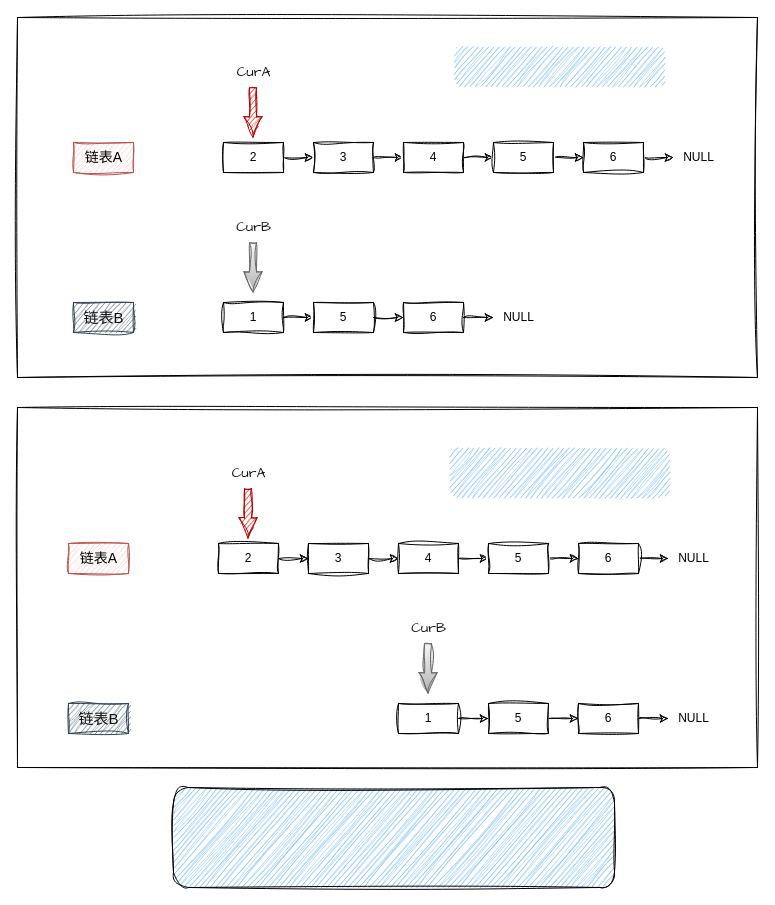
This 775x905 diagram has some shape labels left out. The shapes that lost their labels are listed below. From the top down, each one's box as (x1, y1, x2, y2) in pixels, then its label:
(454, 46, 664, 86): curA指向链表A的头结点 curB指向链表B的头结点
(449, 447, 669, 497): 求出A,B链表的差值 让B的末尾对齐A的末尾
(172, 786, 614, 888): 比较curA和curB是否相同，如果不相同， 同时向后移动，如果遇到curA == curB，则找到交点
